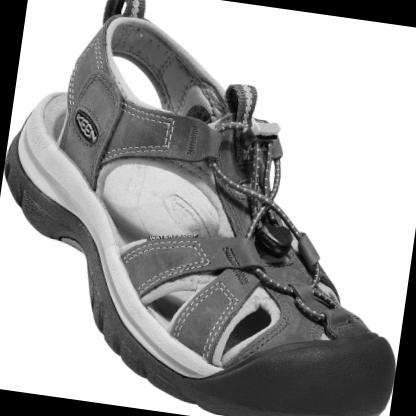ankle: (105, 85, 121, 103)
heel: (9, 152, 22, 166)
pinky: (254, 357, 275, 372)
right_foot: (1, 2, 416, 416)
toe: (375, 344, 393, 362)
